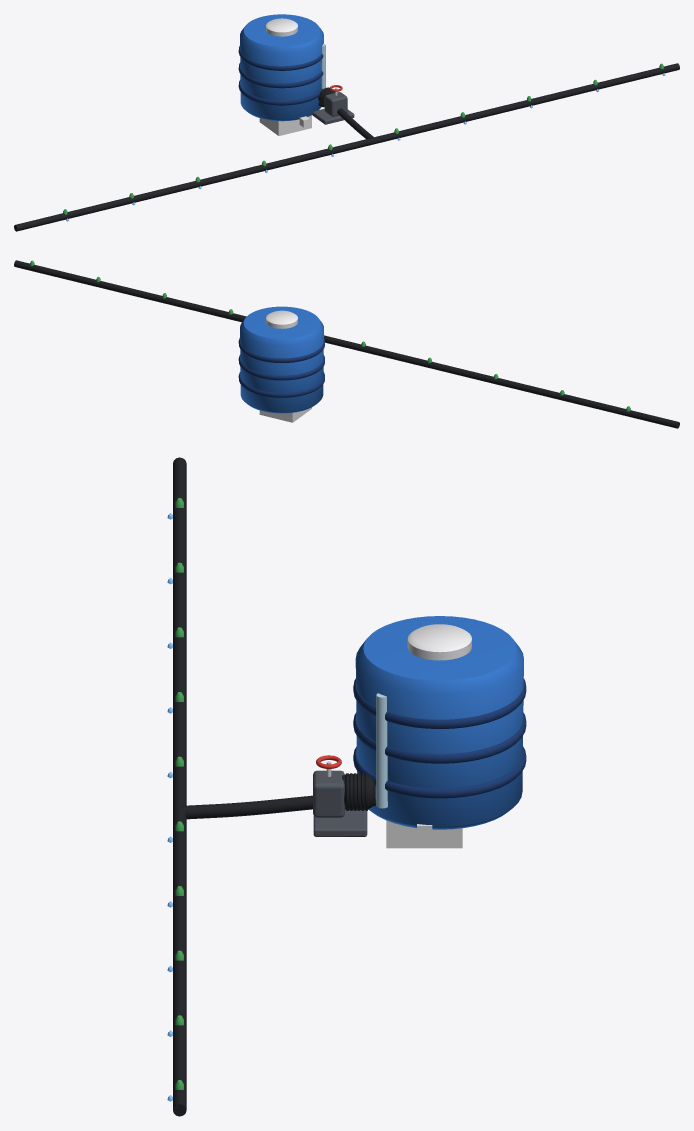
The model's file is DripSystem.fbx.
3 views of the same model, one above another, from view 1: azimuth 30°, elevation 25°; view 2: azimuth 150°, elevation 25°; view 3: azimuth 270°, elevation 25° (orthographic). The views are drawn at different scales.
Visible parts, largest first — view 1: Body__Blue, Body__Black, Body__BlueDark, Body__MetalDark, Origin__Pivot, Body__White; view 2: Body__Blue, Body__Black, Body__BlueDark, Body__White, Origin__Pivot; view 3: Body__Blue, Body__Black, Body__BlueDark, Body__MetalDark, Body__White, Origin__Pivot, Body__Glass.
Part boxes in pixels (x1,y1,x2,y2): Body__Blue: (240,14,323,121); Body__Black: (14,63,679,231); Body__BlueDark: (238,46,323,105); Body__MetalDark: (312,92,354,124); Origin__Pivot: (259,115,311,135); Body__White: (266,18,297,36); Body__Blue: (240,306,323,413); Body__Black: (14,260,679,428); Body__BlueDark: (238,338,324,397); Body__White: (266,310,297,328); Origin__Pivot: (259,407,311,422); Body__Blue: (355,616,523,829); Body__Black: (173,457,376,1116); Body__BlueDark: (353,678,526,798); Body__MetalDark: (313,770,367,836); Body__White: (407,624,471,660); Origin__Pivot: (386,820,462,848); Body__Glass: (376,693,387,808).
Size of the model in its own units: 20 by 2.83 by 4.69.
